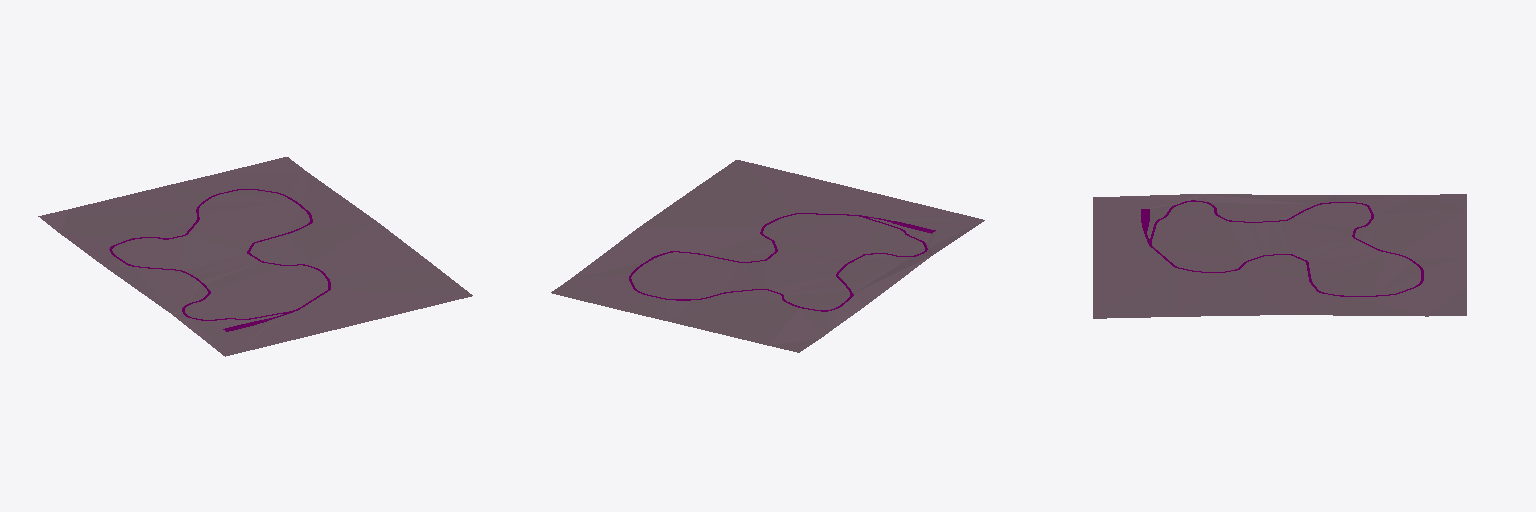
The model's file is Track&Terrain.obj.
3 renders of one model, left to right at view 1: azimuth 30°, elevation 25°; view 2: azimuth 150°, elevation 25°; view 3: azimuth 270°, elevation 25°, orthographic.
Visible parts, largest first — view 1: Earth, road; view 2: Earth, road; view 3: Earth, road.
Boxes of the visible parts, <box> form: Earth: <box>38,157,472,356</box>; road: <box>109,189,330,331</box>; Earth: <box>551,160,984,352</box>; road: <box>629,213,935,311</box>; Earth: <box>1093,194,1466,318</box>; road: <box>1141,200,1423,296</box>.
Size of the model in its own units: 104851 by 1676 by 136185.